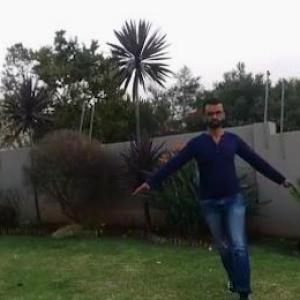land: (134, 101, 277, 277)
